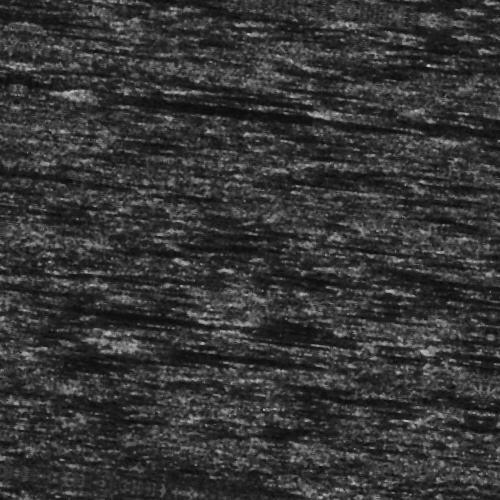object: (92, 348, 185, 365), (287, 98, 392, 109), (314, 250, 397, 263), (6, 111, 99, 118), (173, 495, 256, 500), (405, 396, 468, 401), (145, 94, 186, 101), (0, 194, 17, 205), (0, 325, 35, 330), (389, 267, 420, 272), (488, 24, 500, 33)
shadow: (139, 348, 296, 365), (356, 250, 500, 263), (339, 98, 500, 109), (53, 111, 300, 118), (0, 194, 129, 205), (215, 495, 400, 500), (165, 94, 280, 101), (4, 325, 152, 330), (405, 267, 500, 272), (437, 396, 500, 401)
